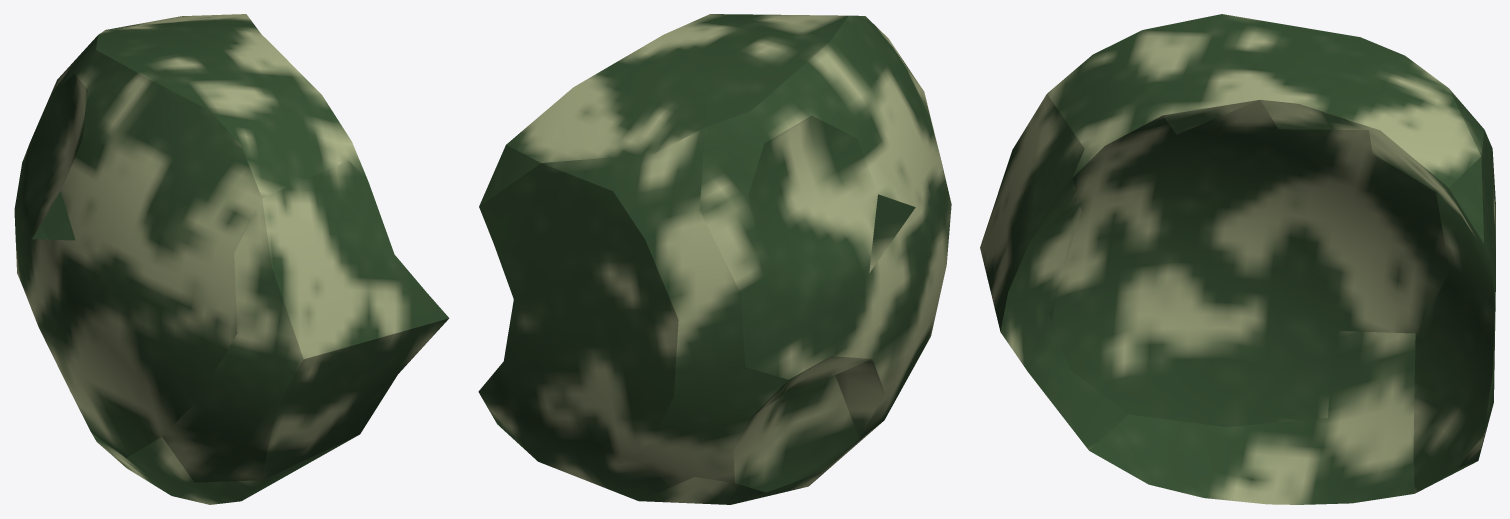
File: link_body_16_composite.obj
The picture shows the model from 3 angles, left to right: view 1: azimuth 30°, elevation 25°; view 2: azimuth 150°, elevation 25°; view 3: azimuth 270°, elevation 25°; orthographic projection. The views are drawn at different scales.
Size of the model in its own units: 9.72 by 12.78 by 13.9.
1 material, 1 textured.
